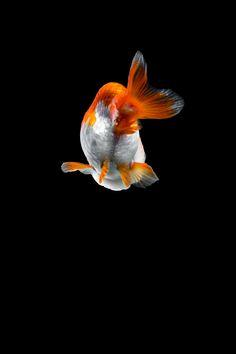goldfish: (61, 55, 208, 212)
